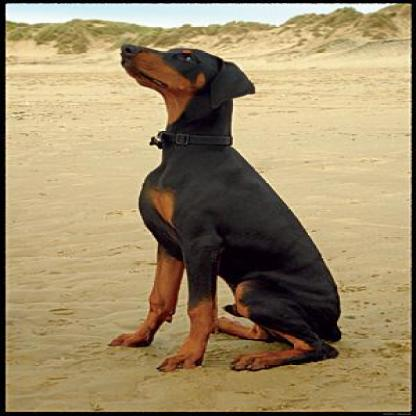Doberman: (107, 40, 344, 374)
